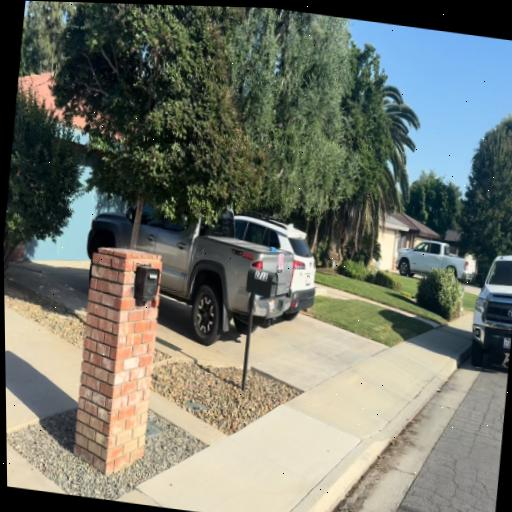bullseye: (278, 253, 284, 270)
